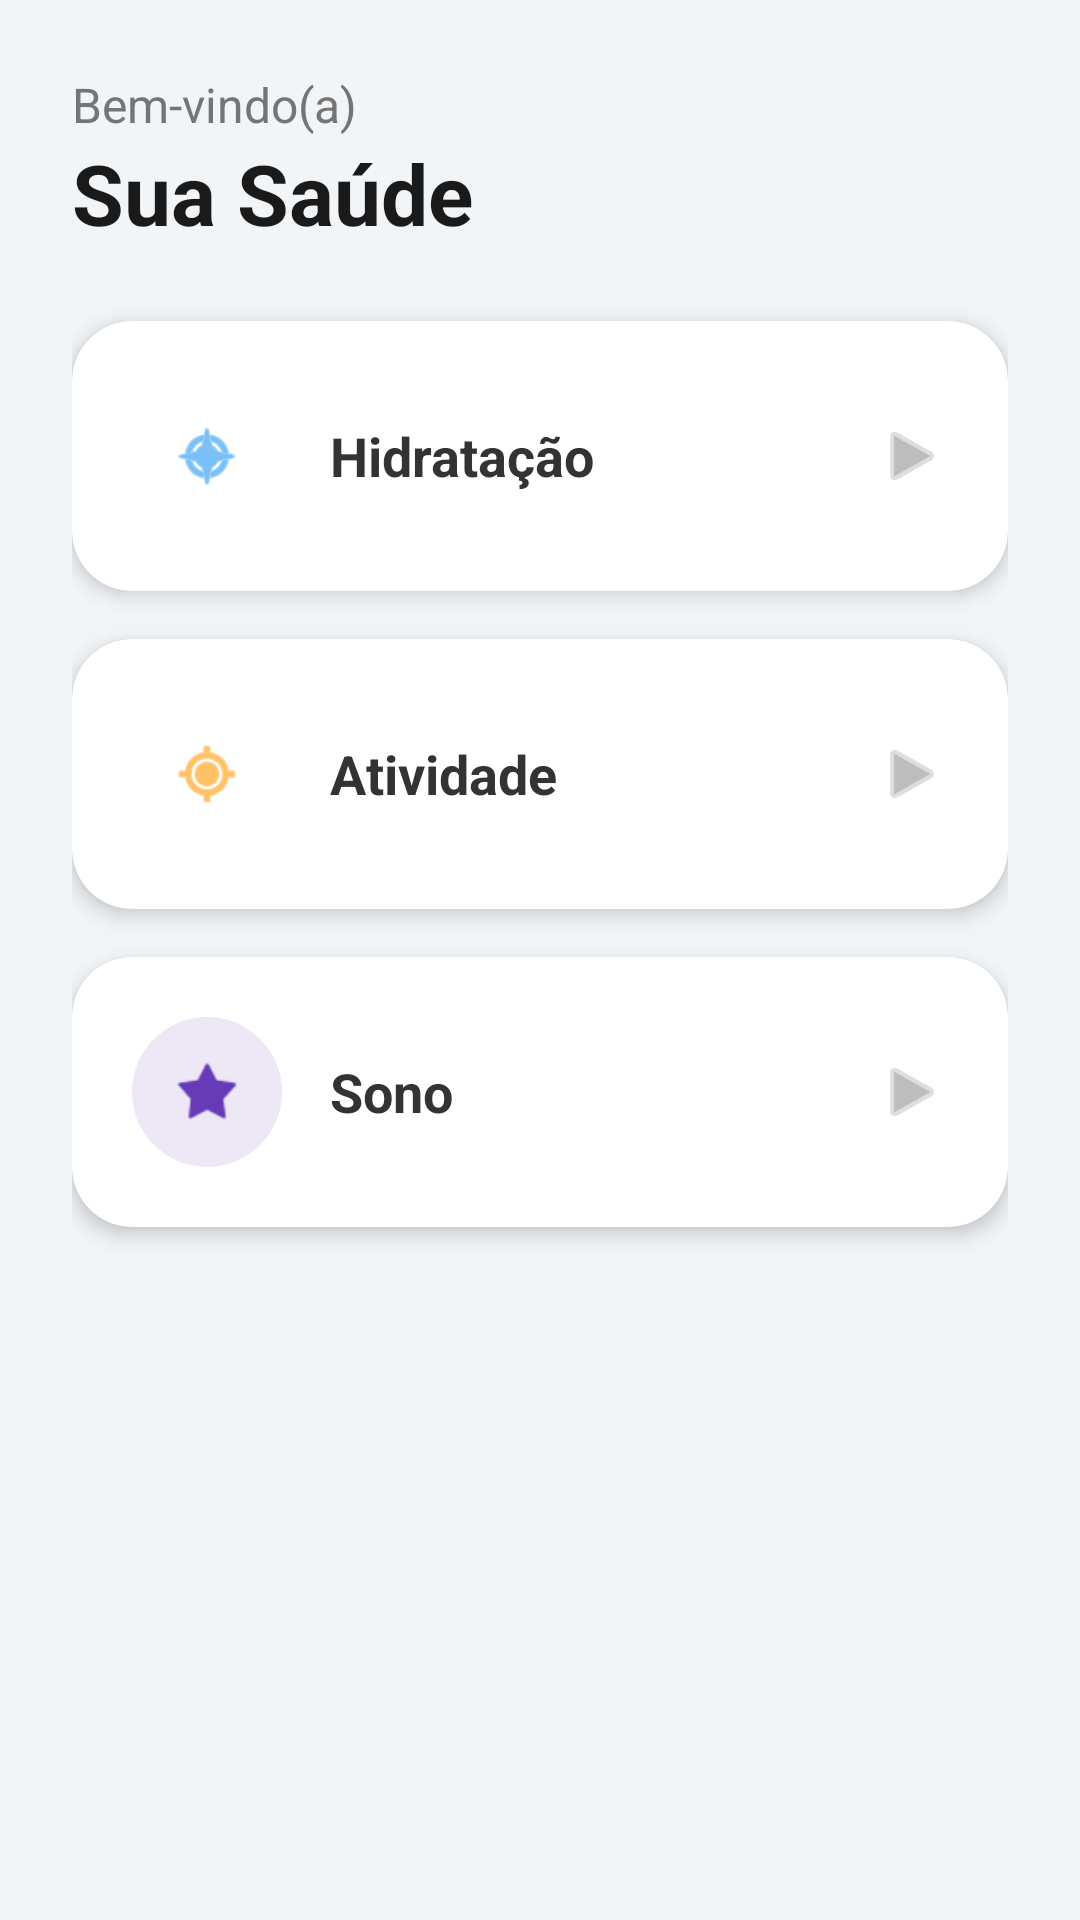

Where to tap for icons on this 1080w x 1920h app screen, as [x,y]:
mylocation: [207,774]
play: [912,456], [912,774], [912,1092]
star on: [207,1091]
